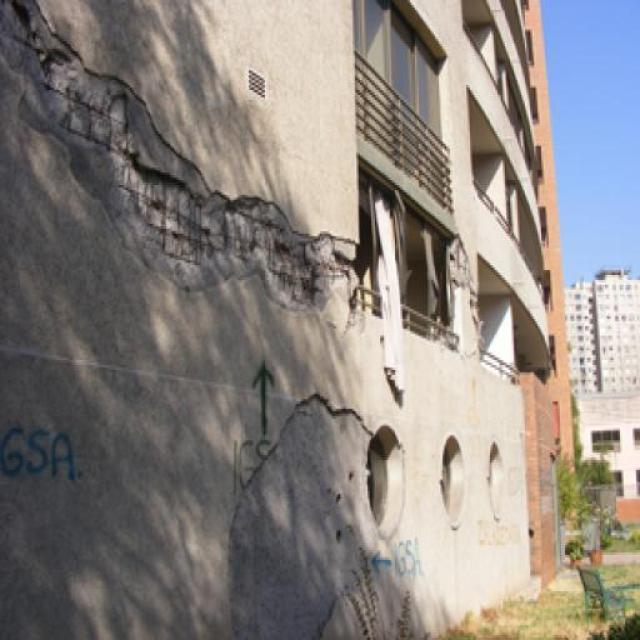D10: (0, 0, 482, 639)
